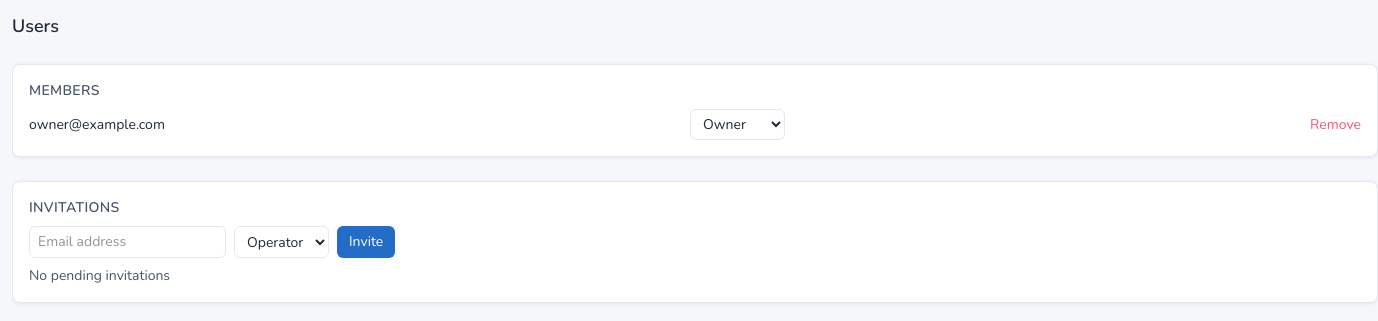
Test: AdminUsersPage › submits the invite form and cancels a pending invitation
Expected: the text "owner@example.com" is shown, [29,114,165,134]
Type "new@example.com" into the field with placeholder "Email address".
click(128, 242); type("new@example.com")  # box [29,226,226,258]
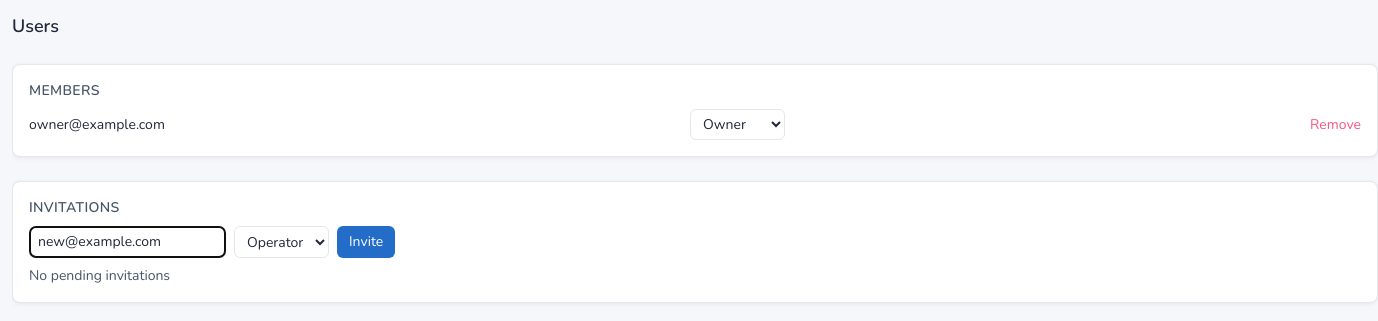
Click the button "Invite".
click(366, 242)  # box [337,226,395,258]
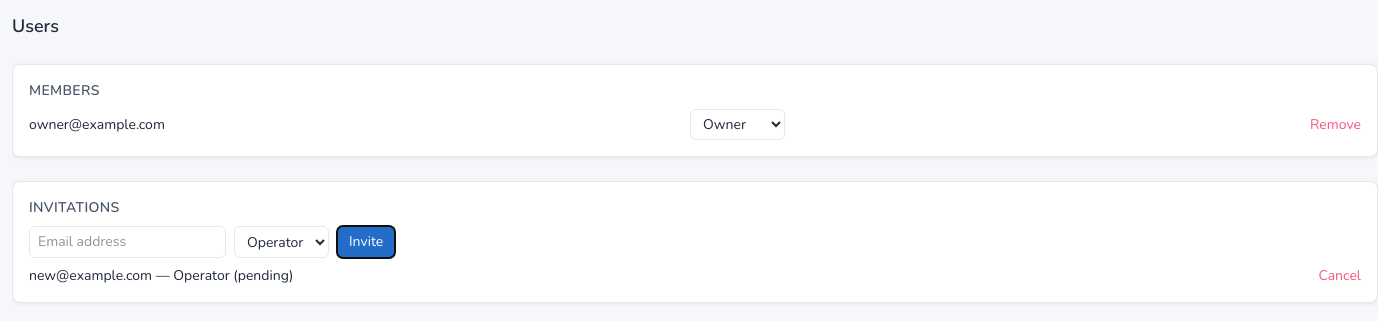
Result: the text "new@example.com — Operator (pending)" is shown at [29,266,293,286]
Click the button "Cancel".
click(1340, 276)  # box [1318,266,1361,286]
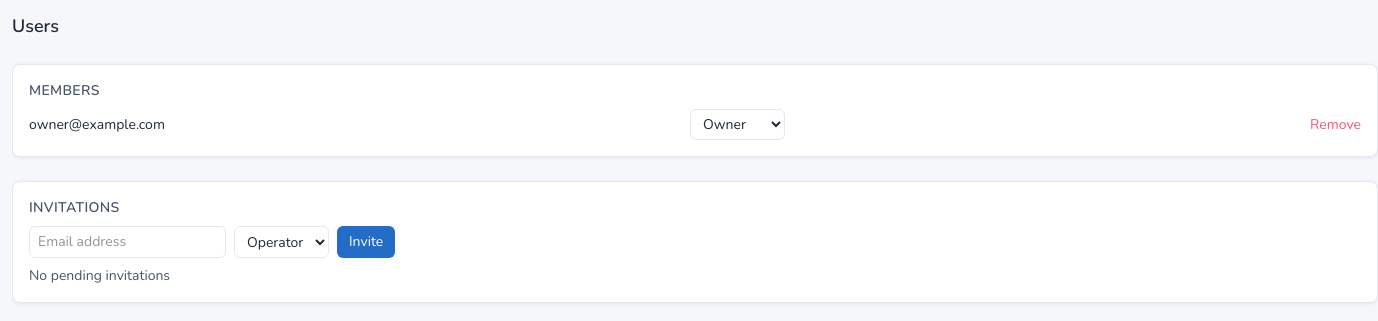
Result: the text "new@example.com" is gone
